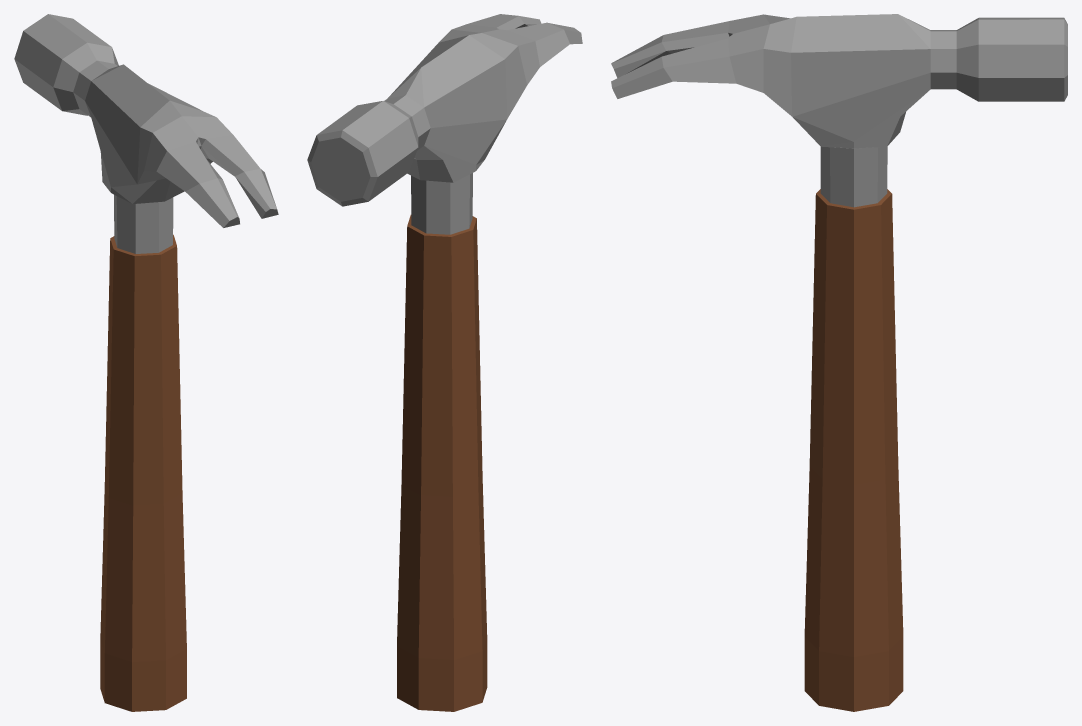
The model's file is hammer05.gltf.
The picture shows the model from 3 angles, left to right: view 1: azimuth 30°, elevation 25°; view 2: azimuth 150°, elevation 25°; view 3: azimuth 270°, elevation 25°; orthographic projection. The views are drawn at different scales.
Visible parts, largest first — view 1: Cylinder; view 2: Cylinder; view 3: Cylinder.
Boxes of the visible parts, <box> form: Cylinder: <box>14,14,278,711</box>; Cylinder: <box>307,14,582,711</box>; Cylinder: <box>611,14,1067,711</box>.
Size of the model in its own units: 0.0271 by 0.1959 by 0.1198.
Materials: 1 (1 with a texture image).
